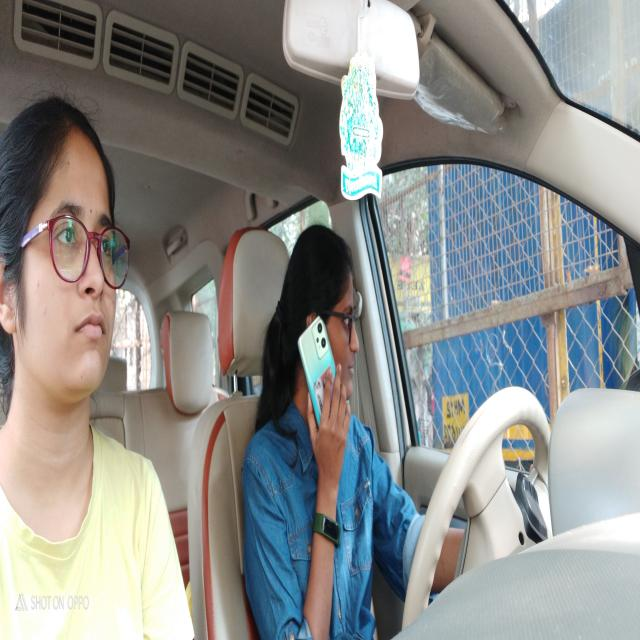mobile: (297, 315, 339, 429)
person: (1, 102, 134, 418), (282, 218, 362, 436)
